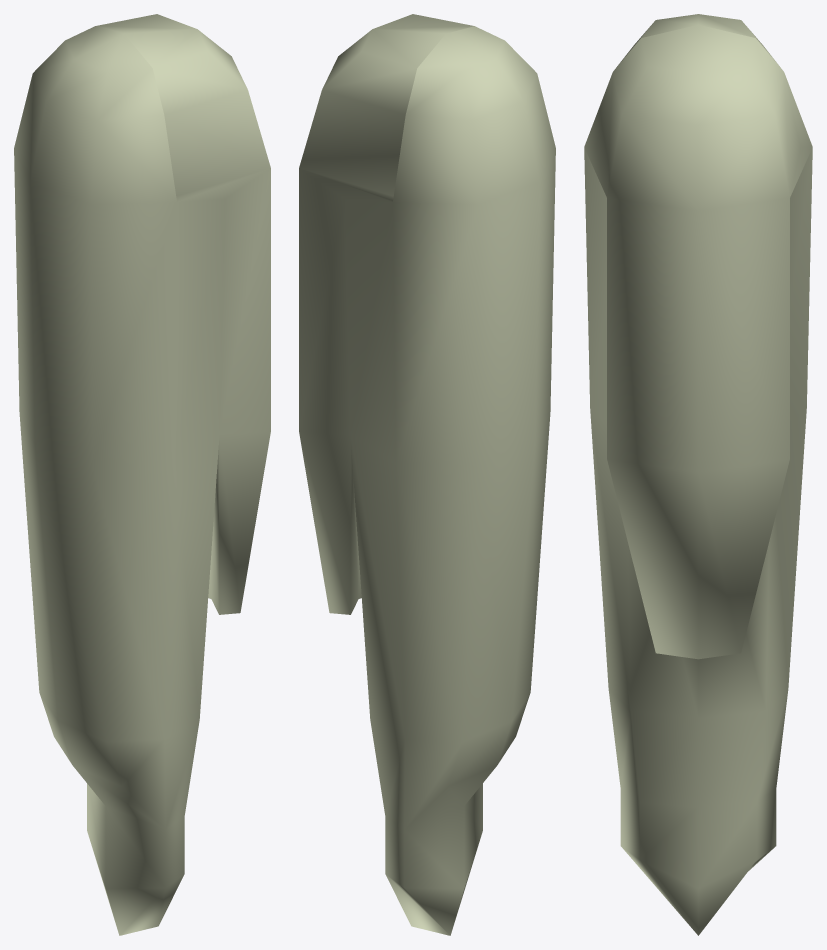
File: anime_robot_right_upper_arm.dae
The picture shows the model from 3 angles, left to right: view 1: azimuth 30°, elevation 25°; view 2: azimuth 150°, elevation 25°; view 3: azimuth 270°, elevation 25°; orthographic projection.
Parts seen in each view (by area): view 1: Cube11_copy13-0; view 2: Cube11_copy13-0; view 3: Cube11_copy13-0.
Boxes of the visible parts, left/top/right/bottom form: Cube11_copy13-0: left=14, top=14, right=270, bottom=935; Cube11_copy13-0: left=299, top=14, right=555, bottom=935; Cube11_copy13-0: left=584, top=14, right=812, bottom=935.
Size of the model in its own units: 0.5956 by 2.32 by 0.5371.
